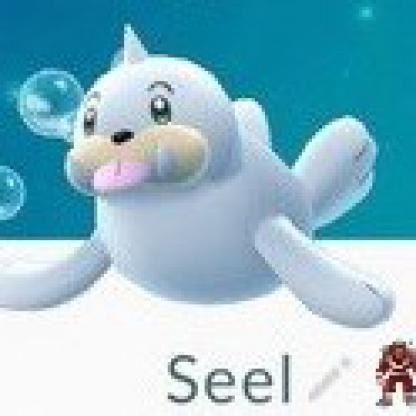Seel: (1, 18, 414, 346)
